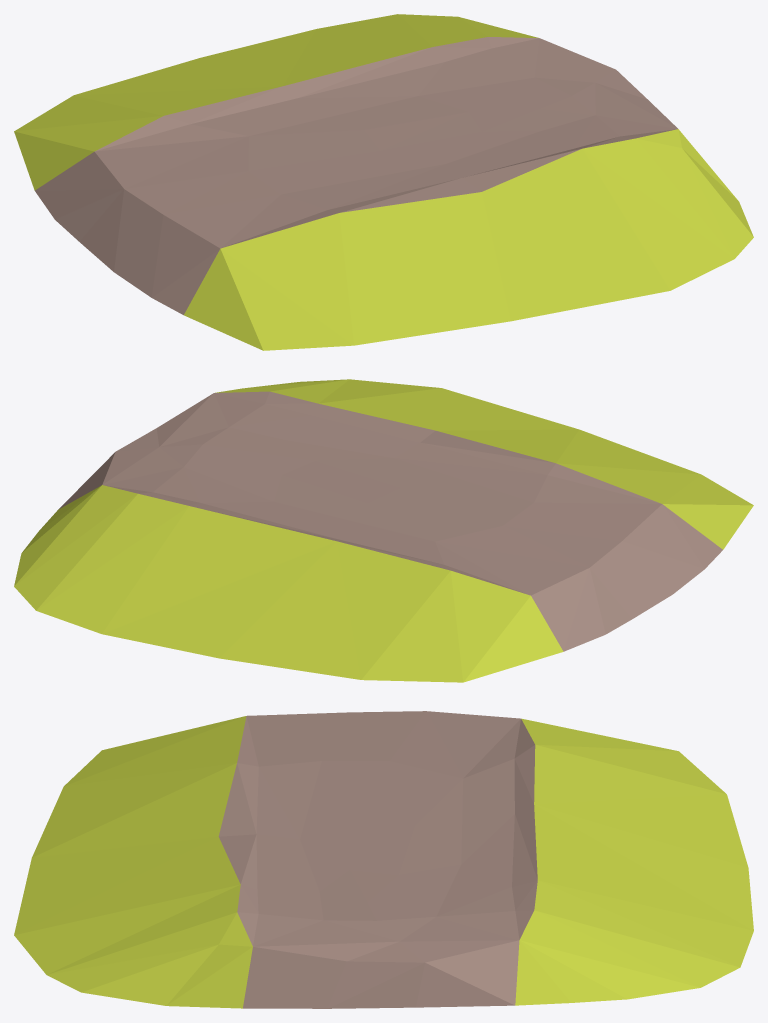
Rendered from Road_010.glb.
3 views of the same model, one above another, from view 1: azimuth 30°, elevation 25°; view 2: azimuth 150°, elevation 25°; view 3: azimuth 270°, elevation 25° (orthographic). The views are drawn at different scales.
Parts seen in each view (by area): view 1: Road_010; view 2: Road_010; view 3: Road_010.
Boxes of the visible parts, left/top/right/bottom form: Road_010: left=14, top=14, right=753, bottom=350; Road_010: left=14, top=379, right=753, bottom=682; Road_010: left=14, top=711, right=753, bottom=1008.
Bounding box in the file's own units: 27.47 × 2.81 × 30.07.
1 material, 1 textured.
